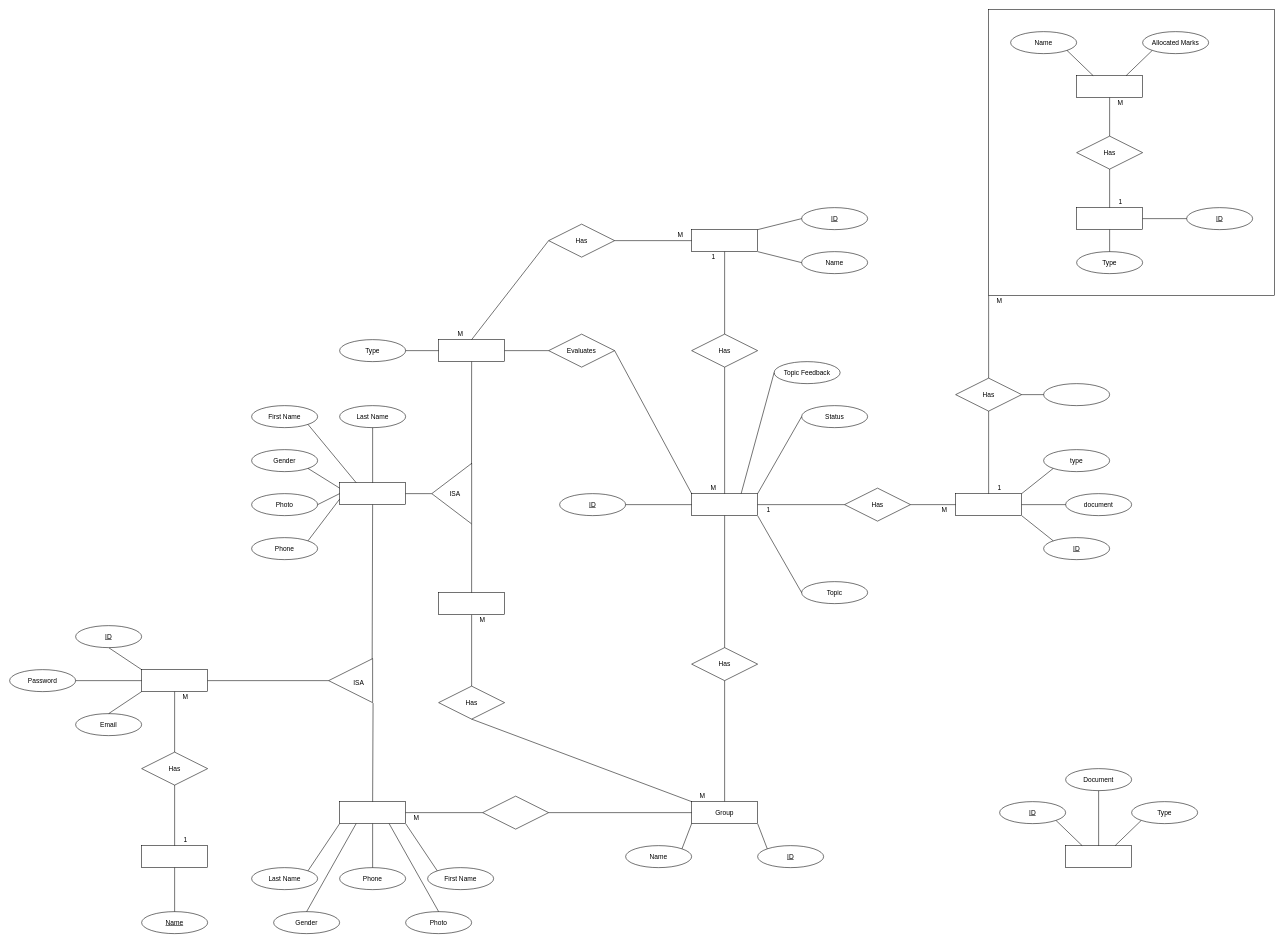
Some shapes in this 1284 by 943 pixel diagram are drawn without their labels. Each missing label, with the centre of its shape:
"(Co)Supervisor" goes at (471,350).
"Area" goes at (1109,86).
"Belongs To" goes at (515,812).
"Marking Scheme" goes at (1109,218).
"Marks" goes at (1076,394).
"Panel Member" goes at (471,603).
"Project" goes at (724,504).
"Research Field" goes at (724,240).
"Role" goes at (174,856).
"Staff Member" goes at (372,493).
"Student" goes at (372,812).
"Submission" goes at (988,504).
"Template" goes at (1098,856).
"User" goes at (174,680).
